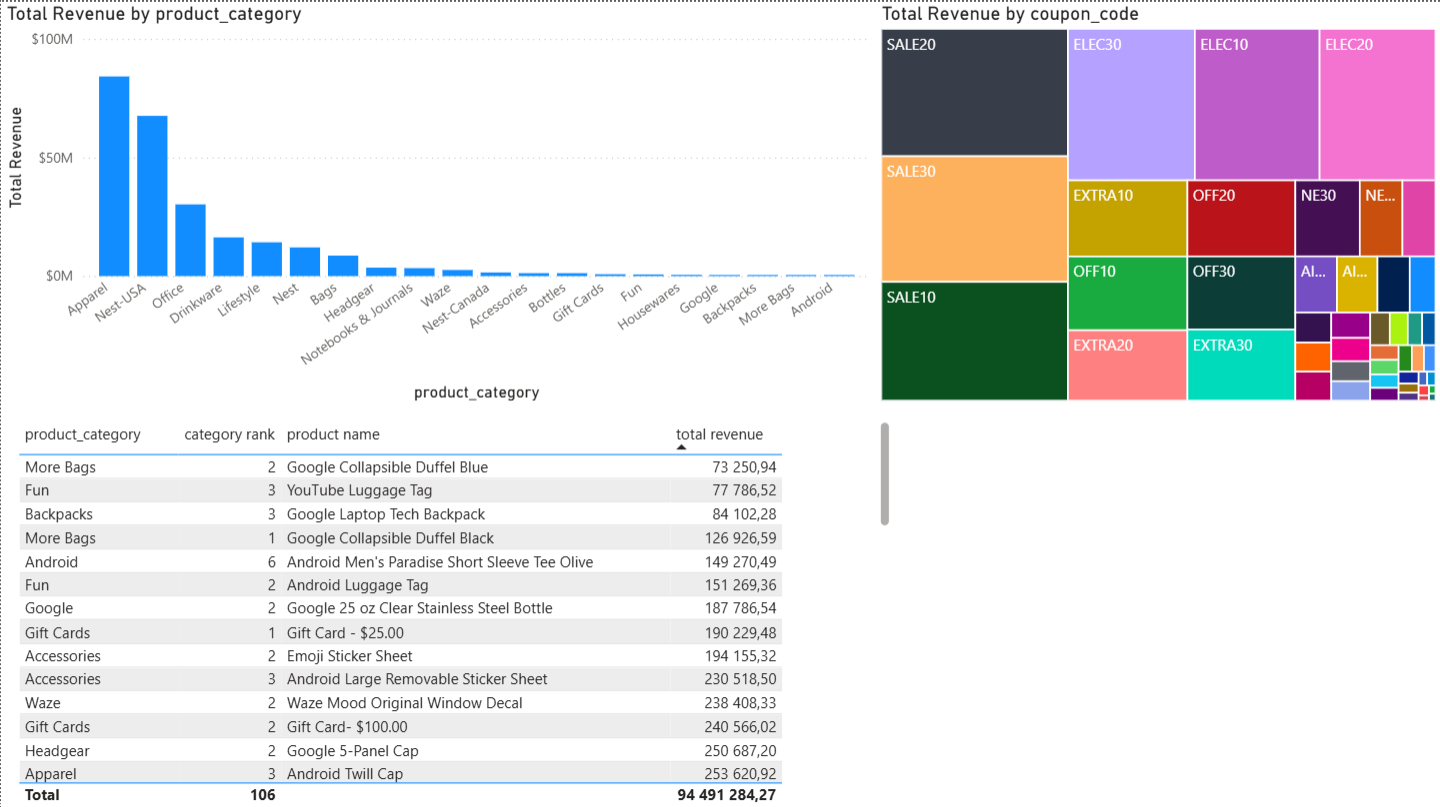

Layout of this report page (visuals, bound fields, positions):
{"tool":"powerbi","page":{"name":"Product & Marketing","canvas":[1280,720],"ordinal":1},"visuals":[{"type":"columnChart","fields":{"Category":["products.product_category"],"Y":["transactions.Total Revenue"]},"box":[0,0,777.5,360],"z":0},{"type":"tableEx","fields":{"Values":["vw_TopProductsPerCategory.product_category","Sum(vw_TopProductsPerCategory.category_rank)","vw_TopProductsPerCategory.product_name","Sum(vw_TopProductsPerCategory.total_revenue)"]},"box":[10,368.8,785,351.2],"z":1000},{"type":"treemap","fields":{"Group":["transactions.coupon_code"],"Values":["transactions.Total Revenue"]},"box":[777.5,0,502.5,360],"z":2000}]}

Visuals, with their boxes in screenshot pixels (x1, y1, x2, y2), scaled from the page's 1280x720 canvas onto the 1440x807 screenshot:
columnChart - products.product_category x transactions.Total Revenue: 0,0,875,404
tableEx - vw_TopProductsPerCategory.product_category x Sum(vw_TopProductsPerCategory.category_rank): 11,413,894,806
treemap - transactions.coupon_code x transactions.Total Revenue: 875,0,1439,404
